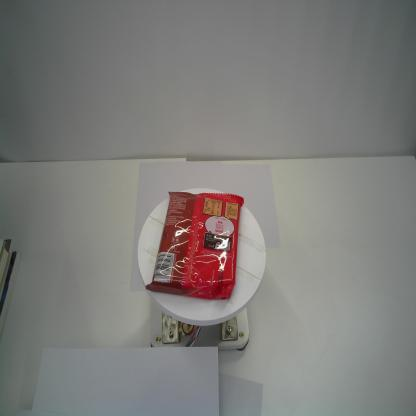Dessert: (146, 190, 245, 302)
